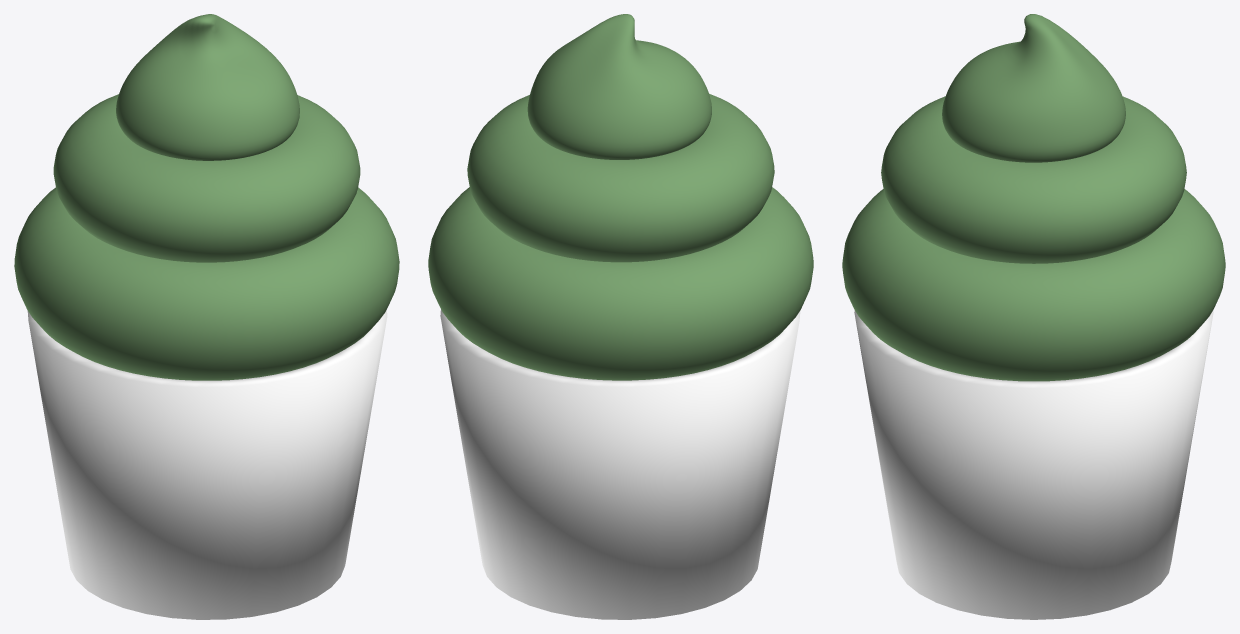
Rendered from matcha_excellent.glb.
3 renders of one model, left to right at view 1: azimuth 30°, elevation 25°; view 2: azimuth 150°, elevation 25°; view 3: azimuth 270°, elevation 25°, orthographic.
Visible parts, largest first — view 1: 圓柱體, 環體, 環體.001, 球體; view 2: 圓柱體, 環體, 環體.001, 球體; view 3: 圓柱體, 環體, 環體.001, 球體.
Boxes of the visible parts, bbox=[...] form: 圓柱體: bbox=[27, 309, 387, 619]; 環體: bbox=[14, 187, 399, 380]; 環體.001: bbox=[53, 94, 360, 262]; 球體: bbox=[116, 14, 299, 160]; 圓柱體: bbox=[440, 309, 800, 619]; 環體: bbox=[428, 187, 813, 380]; 環體.001: bbox=[467, 93, 774, 262]; 球體: bbox=[527, 14, 711, 159]; 圓柱體: bbox=[854, 310, 1213, 619]; 環體: bbox=[842, 189, 1225, 381]; 環體.001: bbox=[881, 96, 1186, 263]; 球體: bbox=[942, 14, 1125, 162].
Size of the model in its own units: 2.94 by 4.59 by 2.94.
2 materials, 1 textured.
